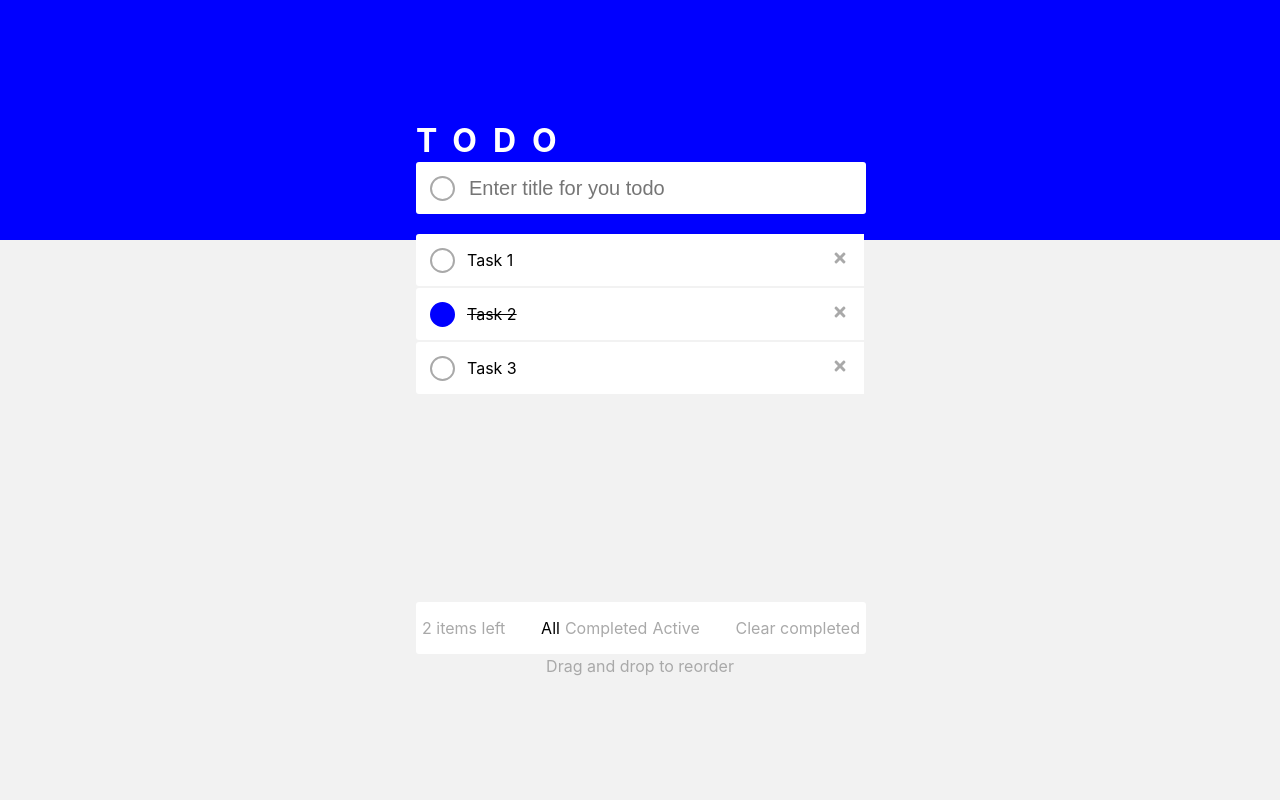
Todo List App › filter completed items
What coordinates should you click on to do the following:
click the text "Active"
I would click on:
 (676, 628)
Its box is [652, 618, 699, 638].
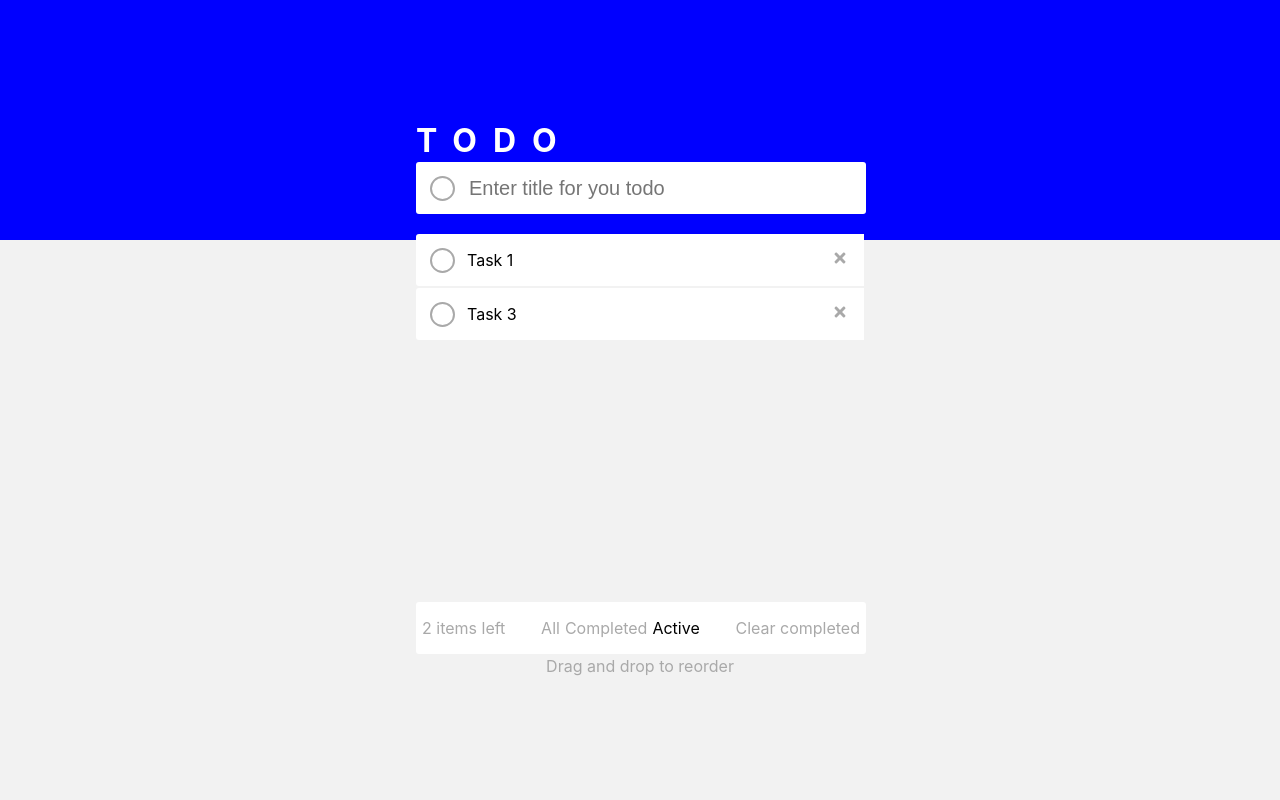
Now the number of list items is 2, box [416, 234, 864, 286]; [416, 288, 864, 340]
